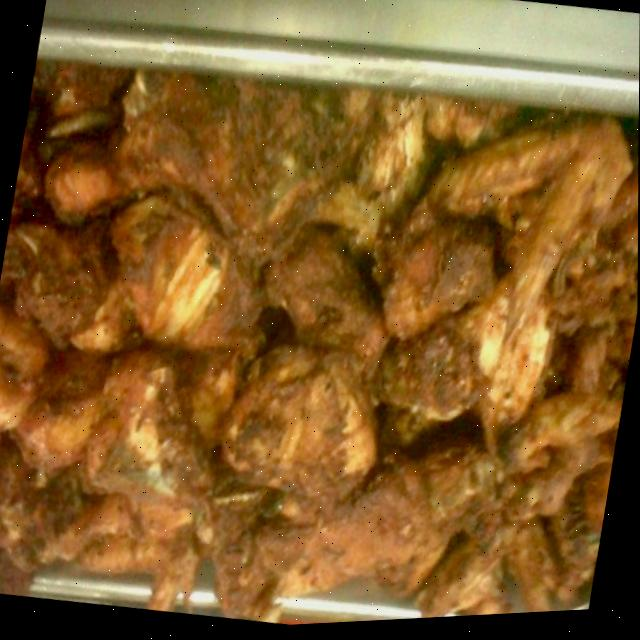鸡肉料理 含炸鸡: (0, 11, 633, 640)
